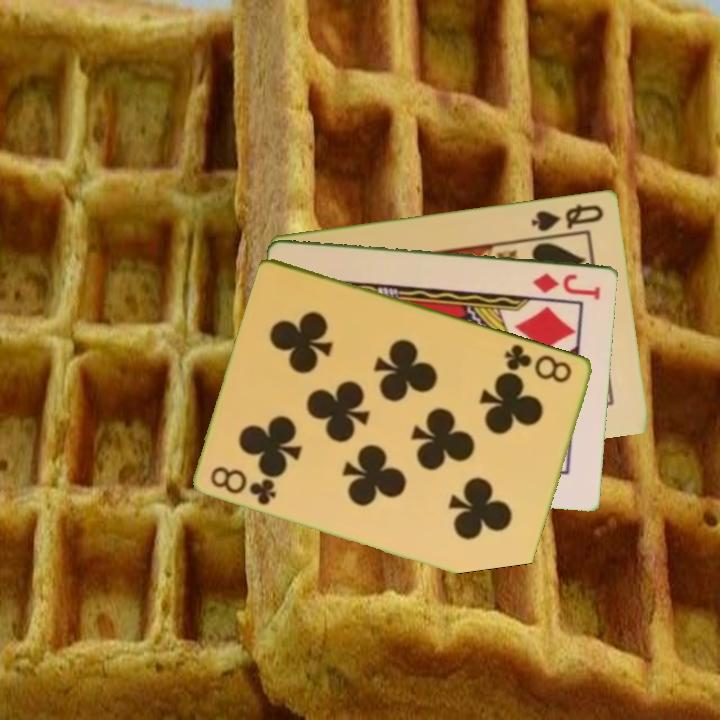8c: (501, 340, 576, 386), (207, 462, 280, 508)
Jd: (530, 269, 604, 302)
Qs: (528, 200, 607, 234)
